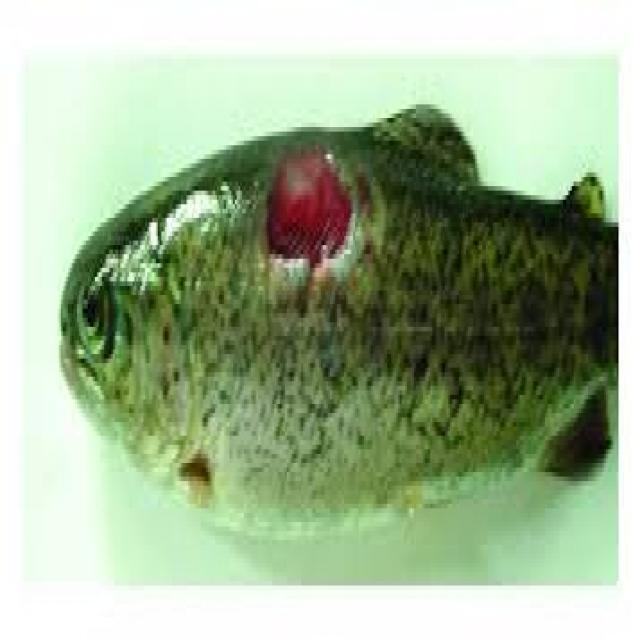EUS Disease: (52, 95, 623, 534), (213, 125, 393, 305), (140, 398, 241, 524)
